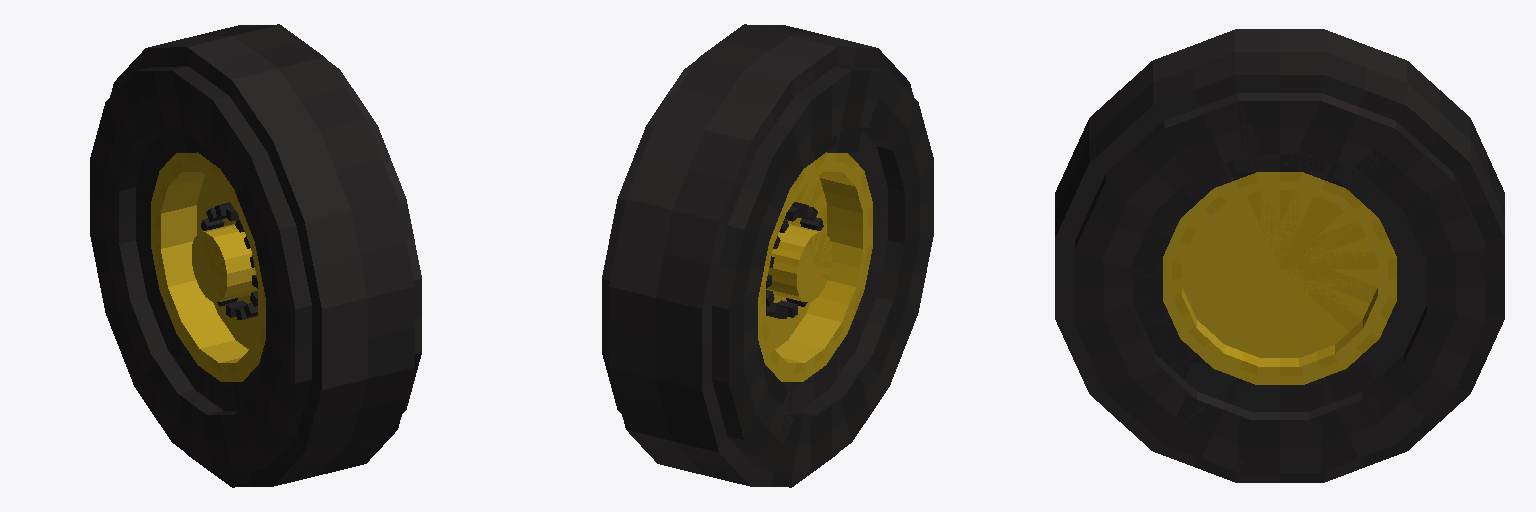
The picture shows the model from 3 angles: view 1: azimuth 30°, elevation 25°; view 2: azimuth 150°, elevation 25°; view 3: azimuth 270°, elevation 25°; orthographic projection.
Visible parts, largest first — view 1: hexadecagon, rim; view 2: hexadecagon, rim; view 3: hexadecagon.
Boxes of the visible parts, <box> form: hexadecagon: <box>90,24,421,487</box>; rim: <box>201,202,257,319</box>; hexadecagon: <box>602,24,933,487</box>; rim: <box>766,202,823,318</box>; hexadecagon: <box>1055,29,1504,482</box>.
Size of the model in its own units: 0.4688 by 1.44 by 1.44.
Materials: 1 (1 with a texture image).